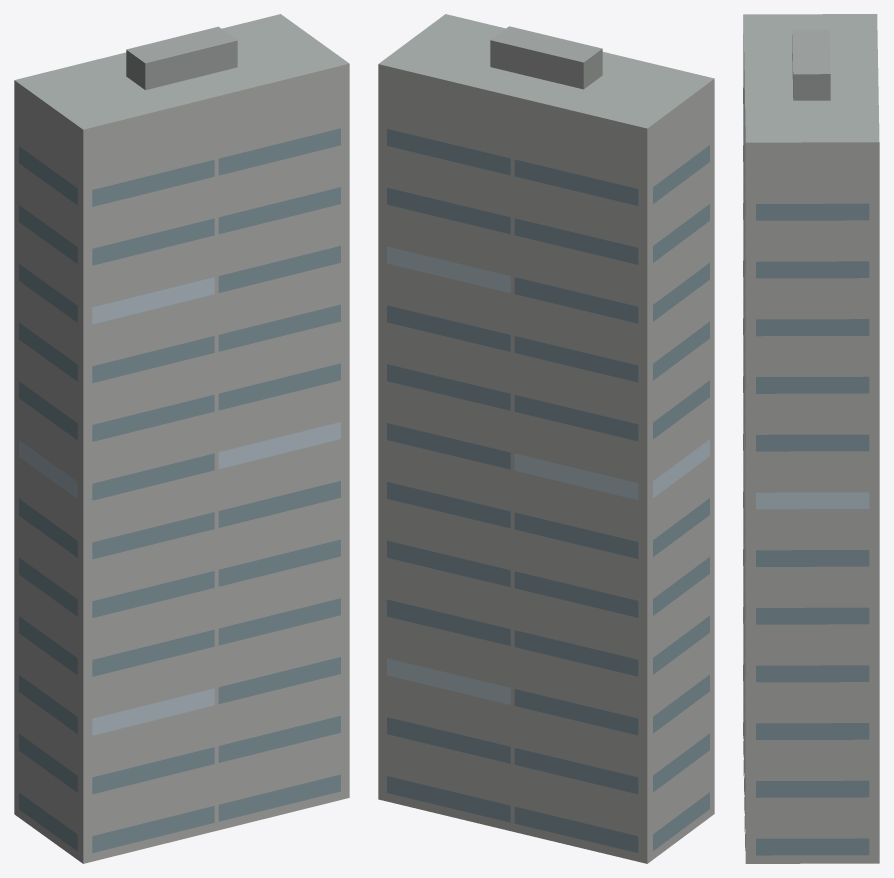
Rendered from fallback-jamsil-els-156.glb.
3 views of the same model, side by side, from view 1: azimuth 30°, elevation 25°; view 2: azimuth 150°, elevation 25°; view 3: azimuth 270°, elevation 25° (orthographic).
Parts seen in each view (by area): view 1: fallback-jamsil-els-156; view 2: fallback-jamsil-els-156; view 3: fallback-jamsil-els-156.
Boxes of the visible parts, x1,y1,x2,y2 form: fallback-jamsil-els-156: (14,14,349,863); fallback-jamsil-els-156: (378,14,714,863); fallback-jamsil-els-156: (743,14,879,863).
Bounding box in the file's own units: 25.17 × 68 × 11.29.
